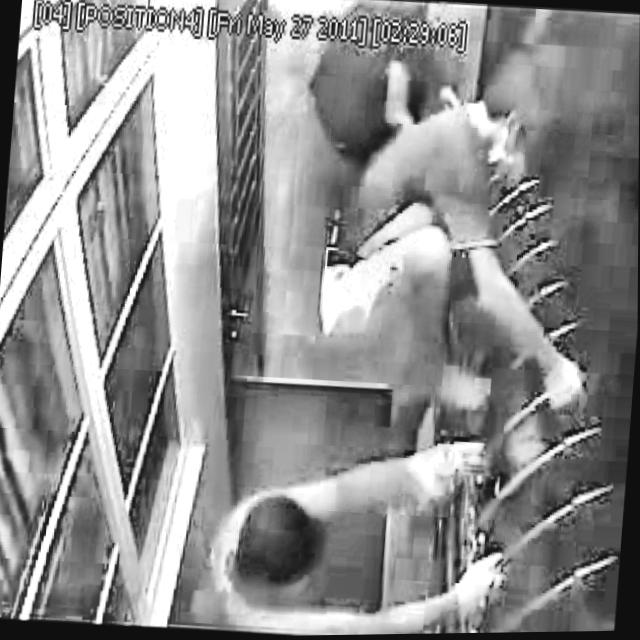burglary: (285, 0, 621, 451), (193, 421, 526, 638)
